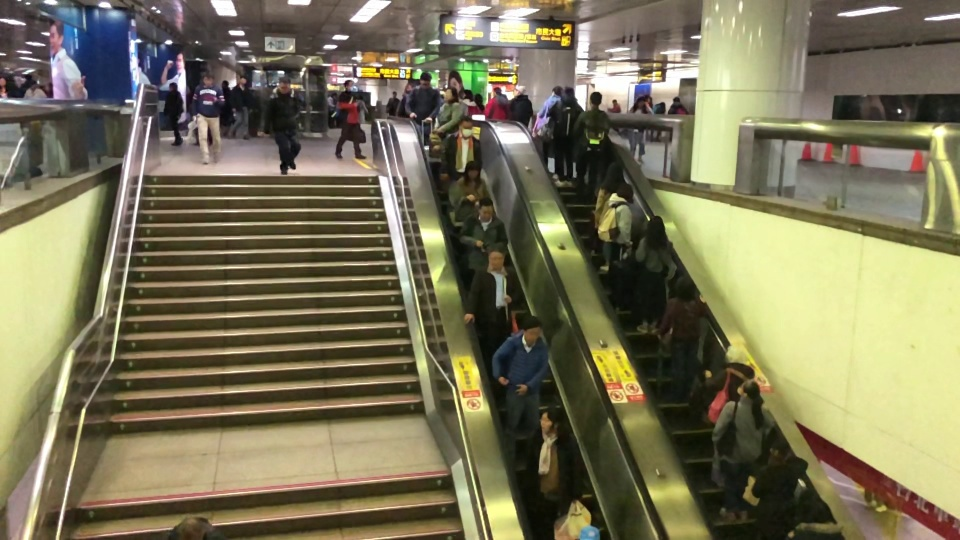person_head: (177, 515, 207, 540), (540, 405, 564, 433), (804, 501, 835, 522), (674, 274, 697, 297), (522, 315, 542, 341), (735, 378, 761, 397), (478, 197, 495, 222), (606, 160, 625, 180), (489, 244, 505, 267), (646, 215, 664, 235), (768, 445, 789, 462), (727, 344, 746, 362), (465, 160, 482, 180), (459, 116, 473, 136), (278, 76, 291, 95), (419, 71, 433, 88), (589, 90, 602, 108), (444, 86, 459, 101), (618, 182, 632, 198), (202, 71, 214, 85), (561, 85, 575, 97), (343, 79, 355, 92), (550, 85, 561, 97), (404, 80, 414, 93), (513, 86, 523, 97), (168, 81, 177, 91), (463, 89, 473, 98), (493, 86, 503, 95), (240, 75, 247, 87), (636, 96, 644, 105), (29, 80, 36, 89), (477, 93, 484, 102), (0, 76, 6, 86), (672, 96, 679, 101), (612, 99, 617, 104), (661, 101, 664, 107), (393, 90, 395, 97)
person_vbox: (711, 377, 777, 522), (490, 315, 549, 446), (526, 406, 594, 513), (704, 343, 755, 485), (658, 273, 709, 401), (463, 244, 521, 336), (751, 445, 808, 535), (635, 215, 673, 336), (574, 91, 609, 203), (263, 77, 302, 175), (593, 159, 625, 272), (460, 198, 508, 272), (191, 71, 227, 165), (550, 85, 580, 186), (439, 115, 482, 184), (597, 181, 634, 261), (333, 79, 367, 159), (447, 160, 488, 225), (787, 500, 844, 540), (406, 72, 441, 133), (228, 75, 254, 142), (539, 85, 561, 162), (628, 96, 652, 162), (163, 81, 183, 147), (432, 87, 459, 135), (510, 85, 533, 126), (484, 85, 510, 118), (396, 80, 414, 117), (650, 100, 665, 143), (463, 88, 481, 116), (23, 80, 48, 98), (668, 97, 689, 114), (386, 89, 399, 115), (0, 76, 13, 97), (607, 98, 621, 114)
